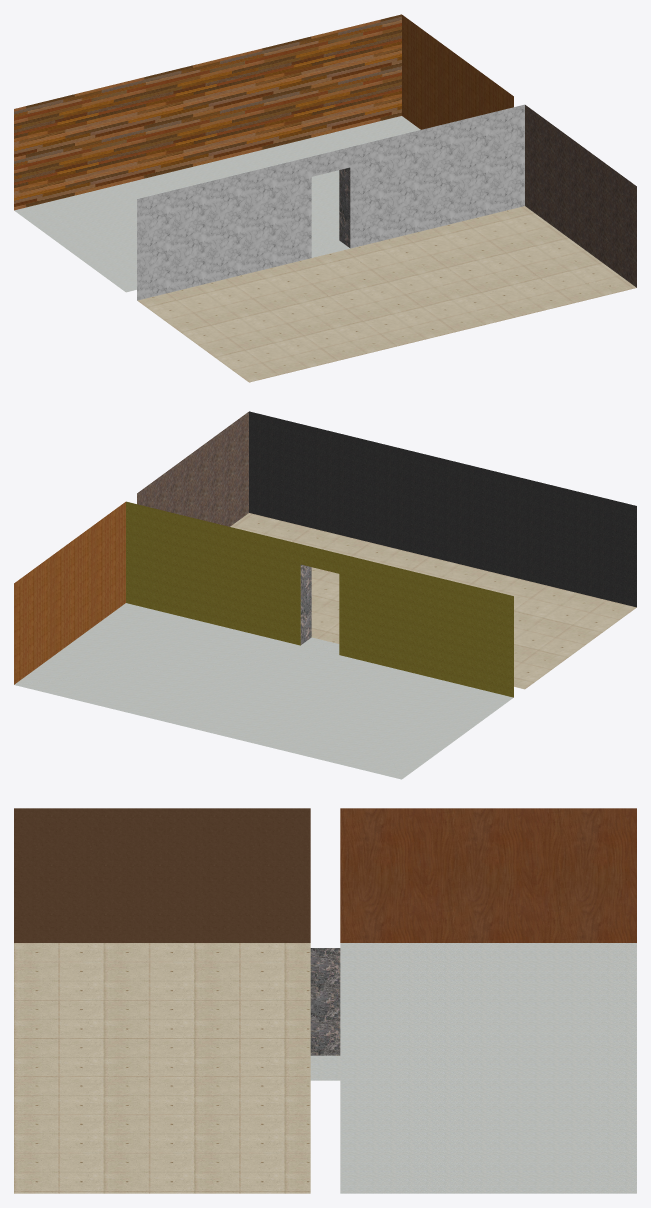
Rendered from TwoRooms.gltf.
The picture shows the model from 3 angles, top to bottom: view 1: azimuth 30°, elevation 25°; view 2: azimuth 150°, elevation 25°; view 3: azimuth 270°, elevation 25°; orthographic projection. The views are drawn at different scales.
Visible parts, largest first — view 1: BrickBare (×3), WoodPanel (×3), GlassThick; view 2: WoodPanel (×3), BrickBare (×3), GlassThick; view 3: WoodPanel (×2), BrickBare (×2), GlassThick.
Part boxes in pixels (x1,y1,x2,y2): BrickBare (×3): (137, 104, 636, 382); WoodPanel (×3): (14, 14, 513, 292); GlassThick: (339, 167, 350, 247); WoodPanel (×3): (14, 501, 513, 779); BrickBare (×3): (137, 411, 636, 689); GlassThick: (300, 564, 311, 644); WoodPanel (×2): (310, 808, 636, 1193); BrickBare (×2): (14, 808, 310, 1193); GlassThick: (310, 948, 340, 1055).
Size of the model in its own units: 20 by 5 by 21.
13 materials, 13 textured.
